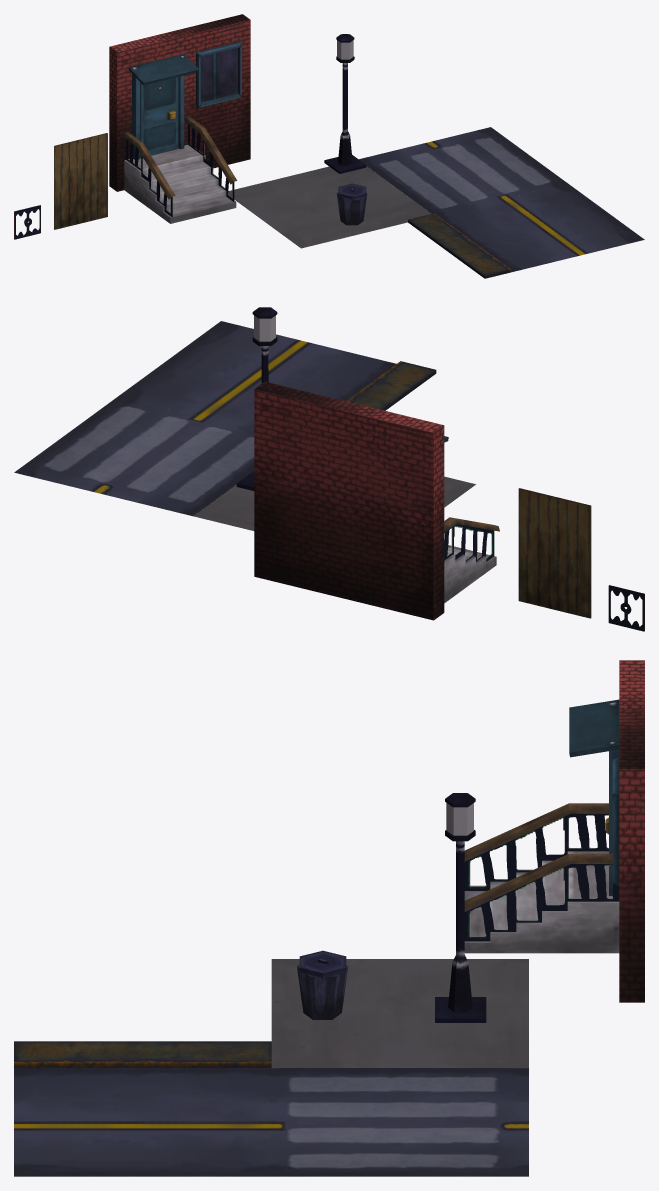
The model's file is streetPack_1.fbx.
The picture shows the model from 3 angles, top to bottom: view 1: azimuth 30°, elevation 25°; view 2: azimuth 150°, elevation 25°; view 3: azimuth 270°, elevation 25°; orthographic projection. The views are drawn at different scales.
Visible parts, largest first — view 1: SimpleWall, roadCrossWalk, roadMiddle.001, sideRoadWalk, Stair, FenceHigh, door, Window, sideRoad, LightingPole, DoorVisor, trashCan (+2 smaller); view 2: SimpleWall, roadCrossWalk, roadMiddle.001, FenceHigh, Stair, sideRoadWalk, sideRoad, LightingPole, FenceLow, LightingPoleLight; view 3: roadMiddle.001, roadCrossWalk, sideRoadWalk, Stair, SimpleWall, sideRoad, LightingPole, DoorVisor, trashCan, trashCanCap, Window, LightingPoleLight.
Part boxes in pixels (left/top/right/bottom): SimpleWall: left=109, top=14, right=250, bottom=191; roadCrossWalk: left=359, top=127, right=567, bottom=215; roadMiddle.001: left=438, top=183, right=644, bottom=271; sideRoadWalk: left=228, top=166, right=431, bottom=248; Stair: left=122, top=116, right=237, bottom=223; FenceHigh: left=54, top=133, right=107, bottom=229; door: left=132, top=74, right=184, bottom=159; Window: left=196, top=41, right=241, bottom=107; sideRoad: left=408, top=213, right=511, bottom=278; LightingPole: left=324, top=34, right=366, bottom=173; DoorVisor: left=128, top=54, right=199, bottom=85; trashCan: left=336, top=192, right=367, bottom=225; SimpleWall: left=254, top=381, right=444, bottom=620; roadCrossWalk: left=14, top=397, right=254, bottom=516; roadMiddle.001: left=118, top=321, right=396, bottom=429; FenceHigh: left=518, top=488, right=591, bottom=618; Stair: left=444, top=517, right=499, bottom=603; sideRoadWalk: left=193, top=476, right=475, bottom=530; sideRoad: left=346, top=361, right=436, bottom=410; LightingPole: left=236, top=307, right=277, bottom=490; FenceLow: left=608, top=585, right=644, bottom=631; LightingPoleLight: left=254, top=315, right=275, bottom=341; roadMiddle.001: left=14, top=1068, right=271, bottom=1176; roadCrossWalk: left=271, top=1068, right=528, bottom=1176; sideRoadWalk: left=271, top=959, right=528, bottom=1067; Stair: left=464, top=803, right=619, bottom=953; SimpleWall: left=619, top=660, right=644, bottom=1002; sideRoad: left=14, top=1041, right=271, bottom=1067; LightingPole: left=435, top=793, right=486, bottom=1022; DoorVisor: left=569, top=699, right=619, bottom=757; trashCan: left=297, top=964, right=348, bottom=1019; trashCanCap: left=299, top=950, right=346, bottom=977; Window: left=612, top=757, right=619, bottom=885; LightingPoleLight: left=446, top=803, right=473, bottom=835.
Size of the model in its own units: 2450 by 3545 by 1049.
Materials: 2 (2 with a texture image).
